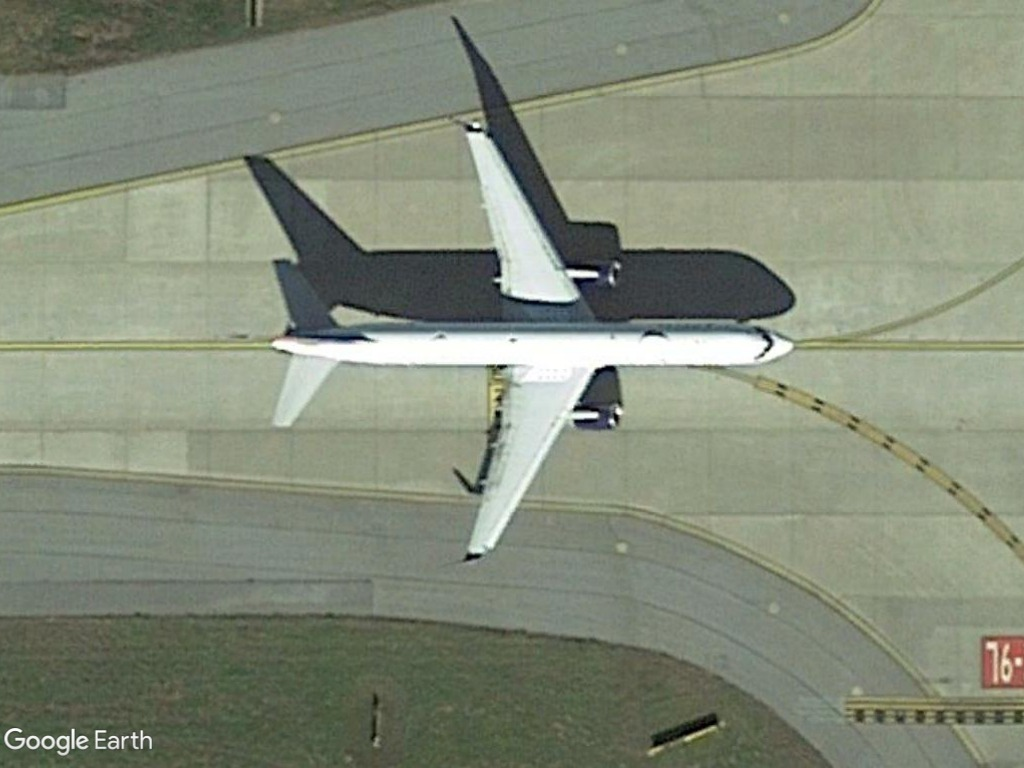airliner: (260, 122, 801, 566)
